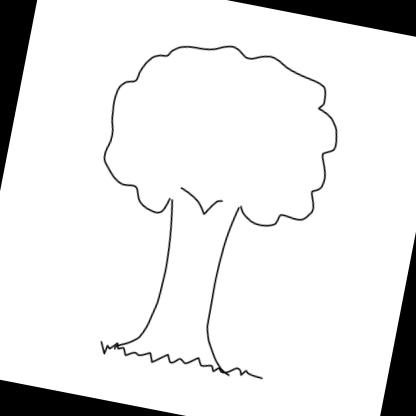branch_line: (168, 175, 244, 229)
crown_cloud: (95, 25, 351, 244)
root_none: (99, 331, 243, 406)
trunk_straight: (144, 212, 232, 341)
